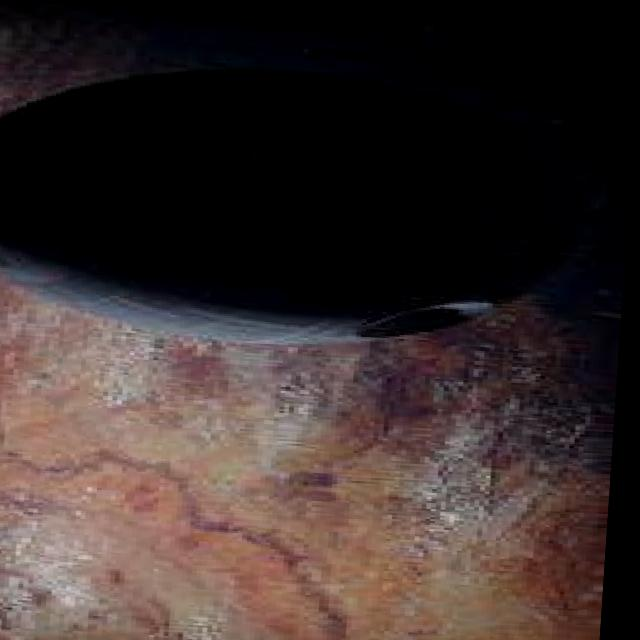deathStar: (0, 55, 571, 352)
